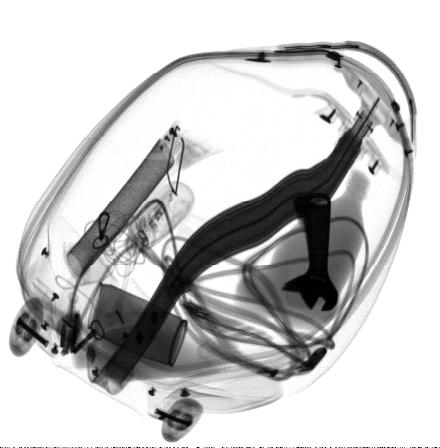Wrench: (281, 192, 338, 312)
